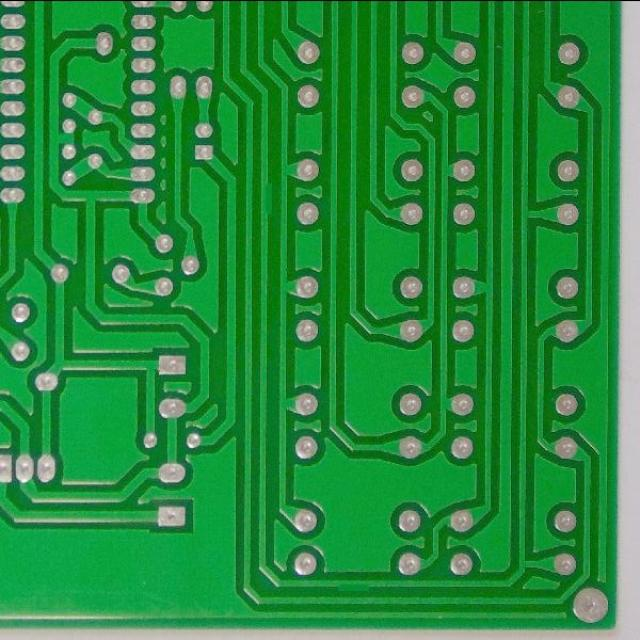Spur: (333, 574, 375, 595), (257, 178, 276, 221)
